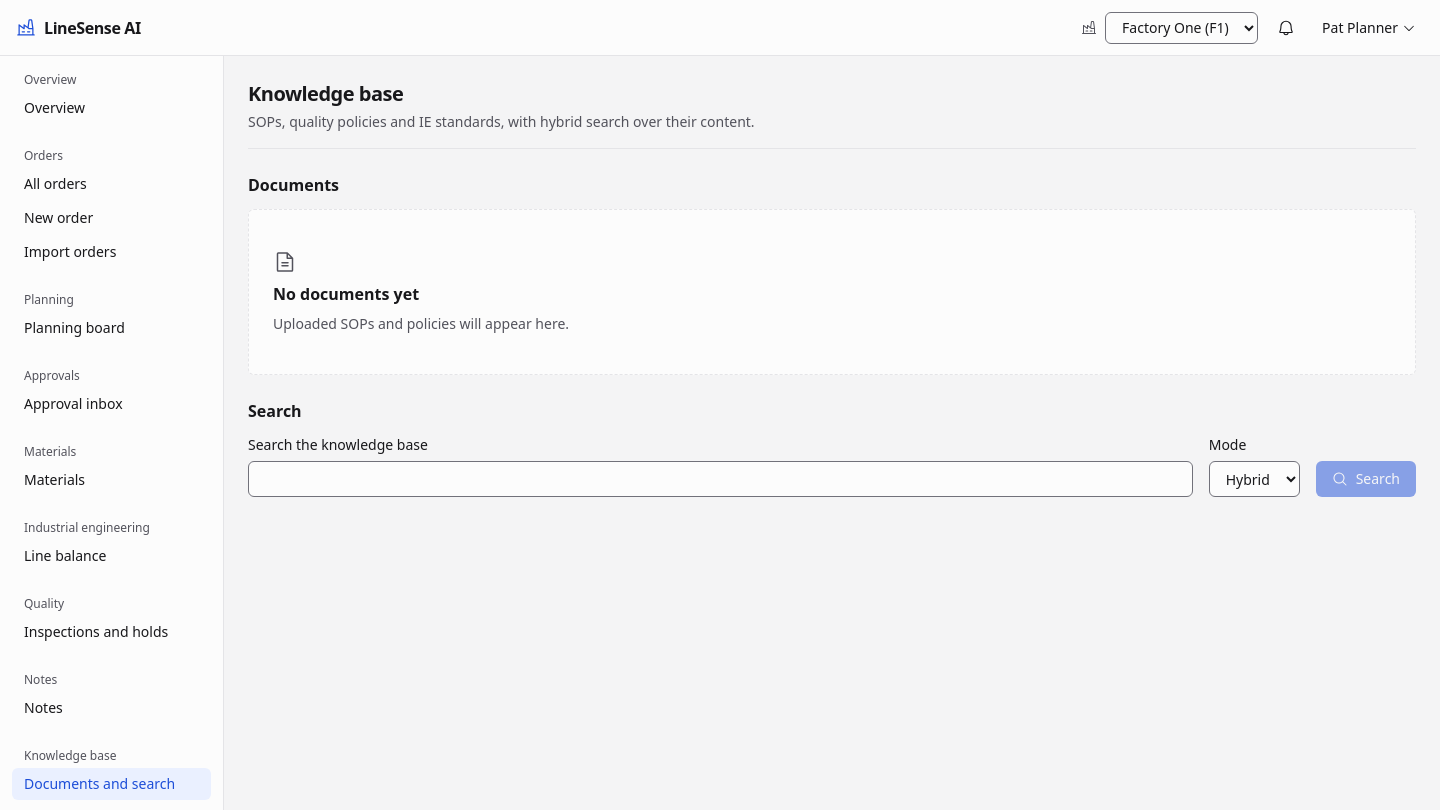
Test: SearchPanel › shows an empty state for no matches
Type "nothing" into the field labelled "Search the knowledge base" at {"x": 720, "y": 479}, box [248,461,1193,497]
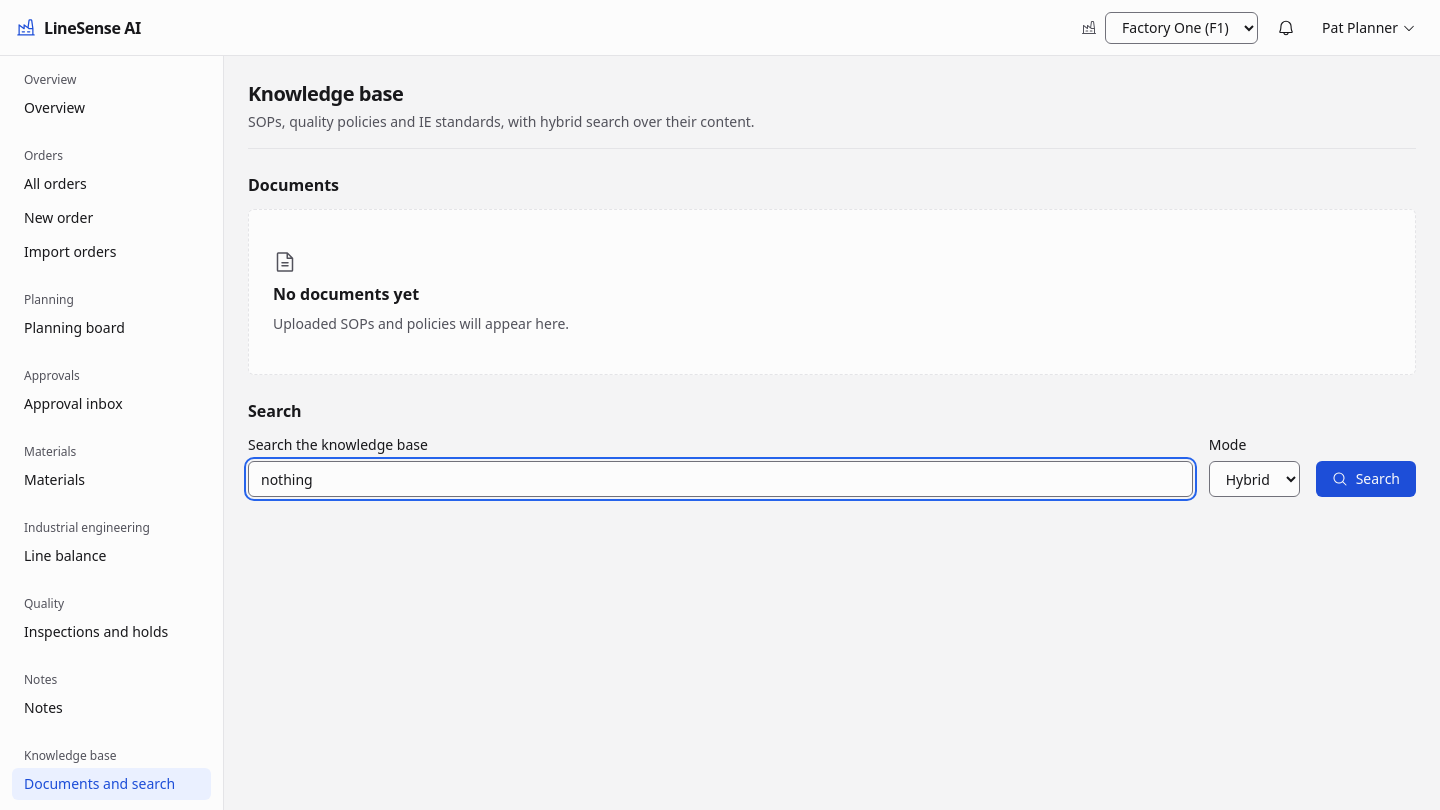
Click the button "Search" at {"x": 1366, "y": 479}, box [1316,461,1416,497]
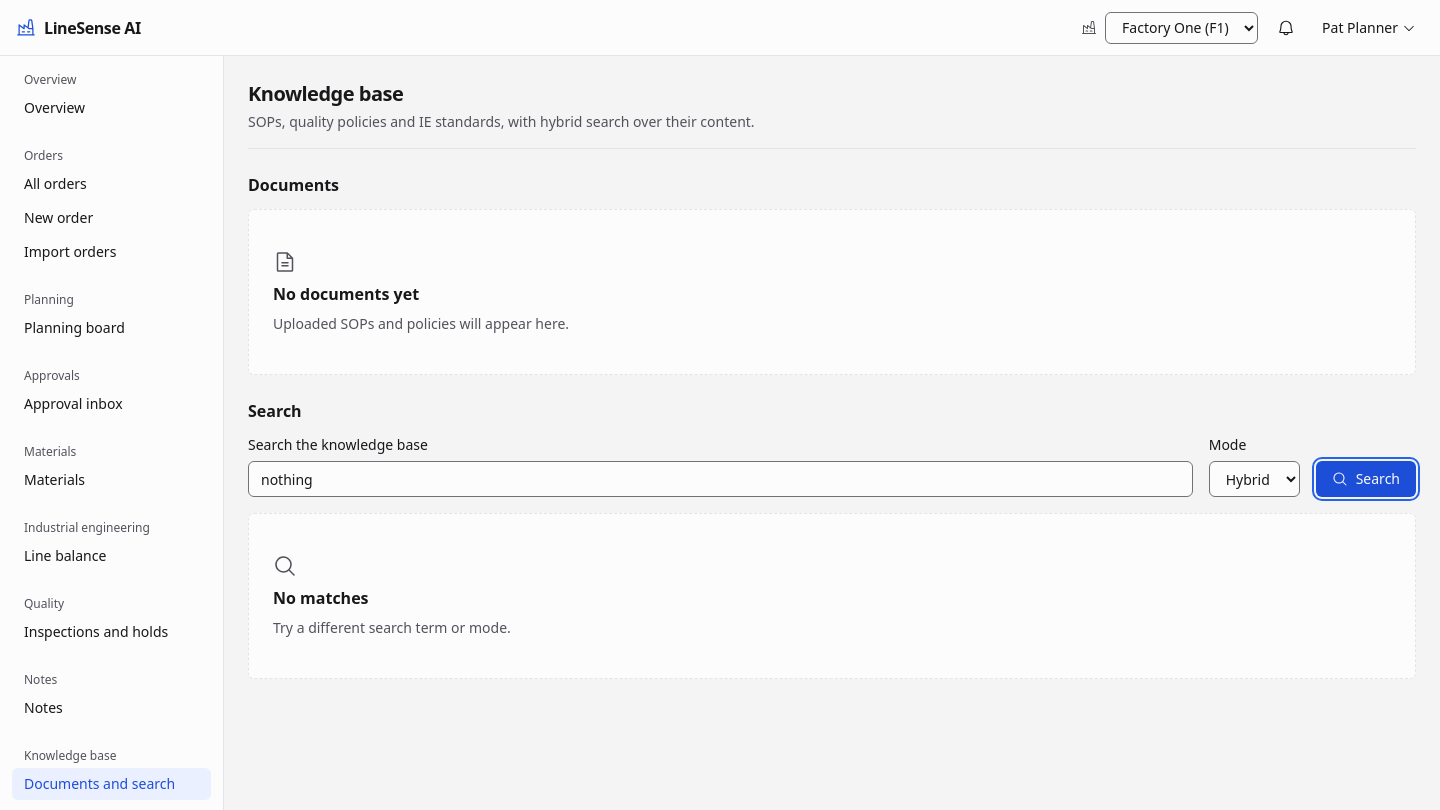
Now the text "No matches" is shown, box [273,586,368,610]
